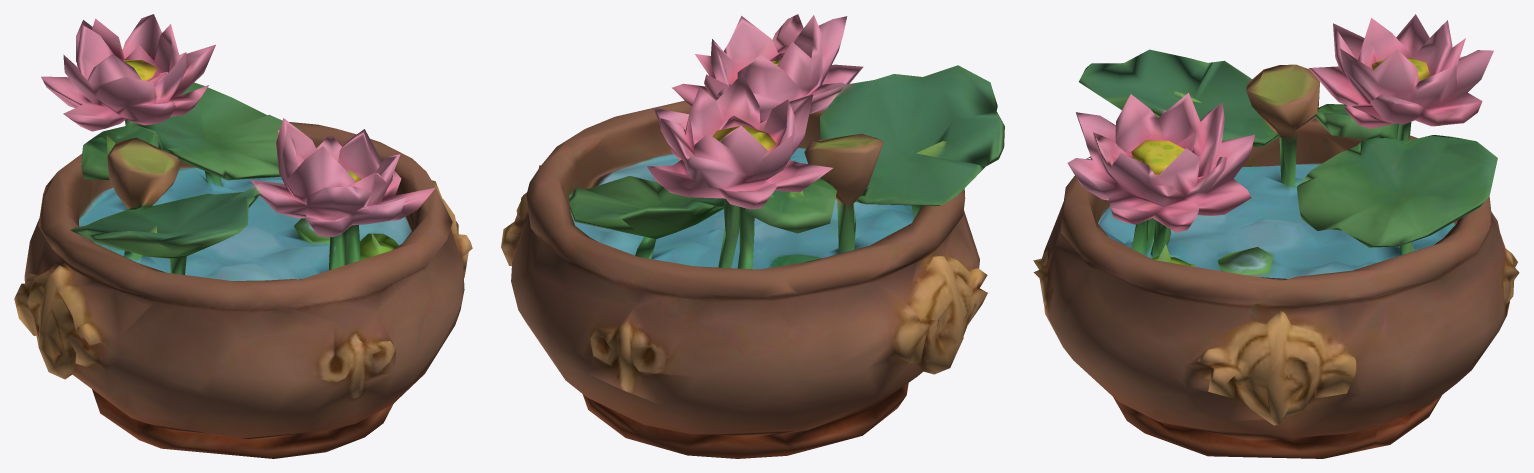
Rendered from lotus.glb.
3 renders of one model, left to right at view 1: azimuth 30°, elevation 25°; view 2: azimuth 150°, elevation 25°; view 3: azimuth 270°, elevation 25°, orthographic. The views are drawn at different scales.
Parts seen in each view (by area): view 1: tripo_node_4554add3-3726-493e-b26e-8d4aa6823a6e; view 2: tripo_node_4554add3-3726-493e-b26e-8d4aa6823a6e; view 3: tripo_node_4554add3-3726-493e-b26e-8d4aa6823a6e.
Part boxes in pixels (<box>): tripo_node_4554add3-3726-493e-b26e-8d4aa6823a6e: <box>14,14,472,458</box>; tripo_node_4554add3-3726-493e-b26e-8d4aa6823a6e: <box>501,14,1004,458</box>; tripo_node_4554add3-3726-493e-b26e-8d4aa6823a6e: <box>1033,14,1519,458</box>.
Bounding box in the file's own units: 0.3846 × 0.3 × 0.3869.
1 material, 1 textured.
